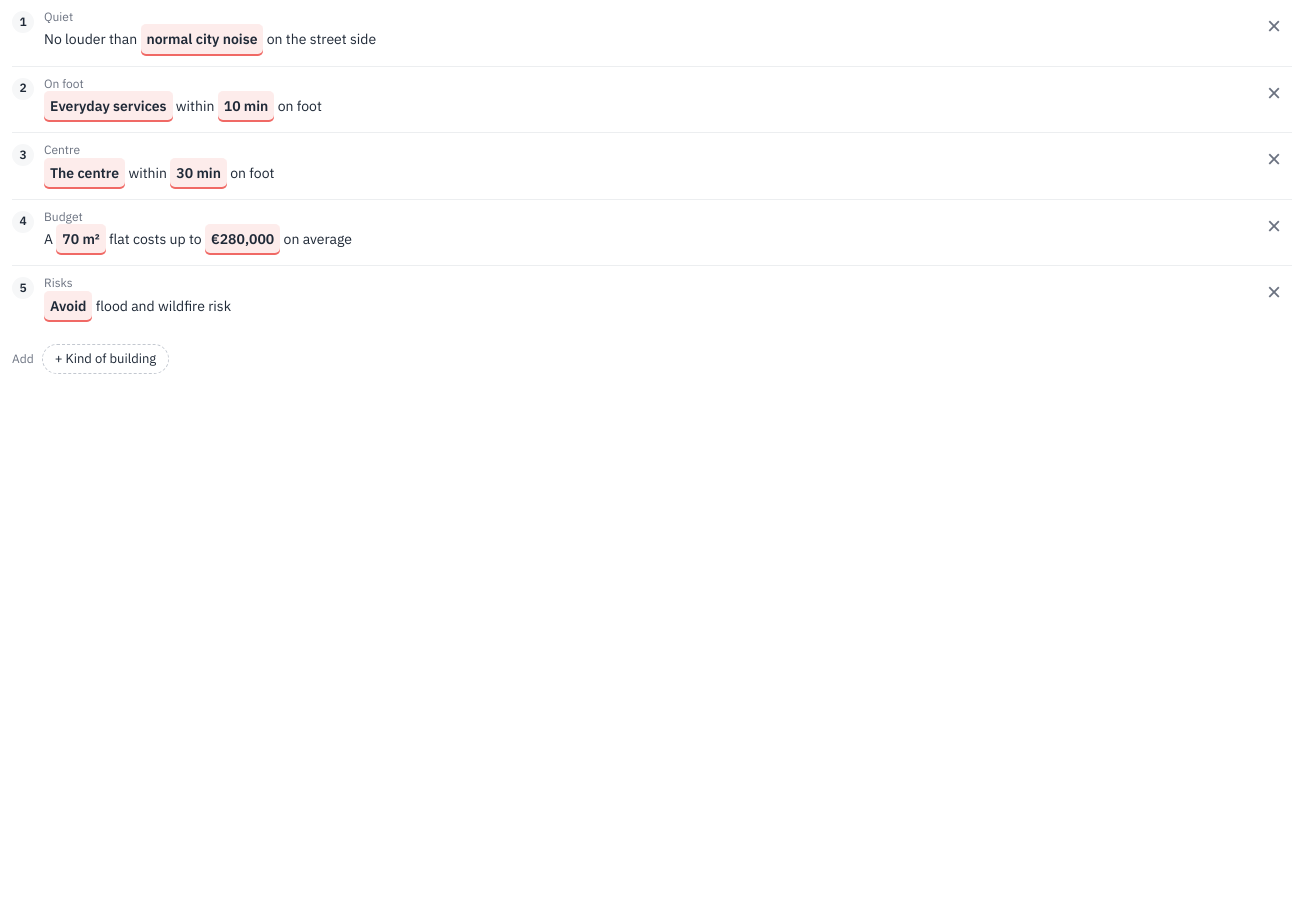
Test: ConditionsEditor › word picker in place (072) › Custom keeps the panel open while the value changes, with its own limits shown
This screenshot has width=1304, height=900.
Click the button "normal city noise" at (202, 40), box [140,24,264,56]
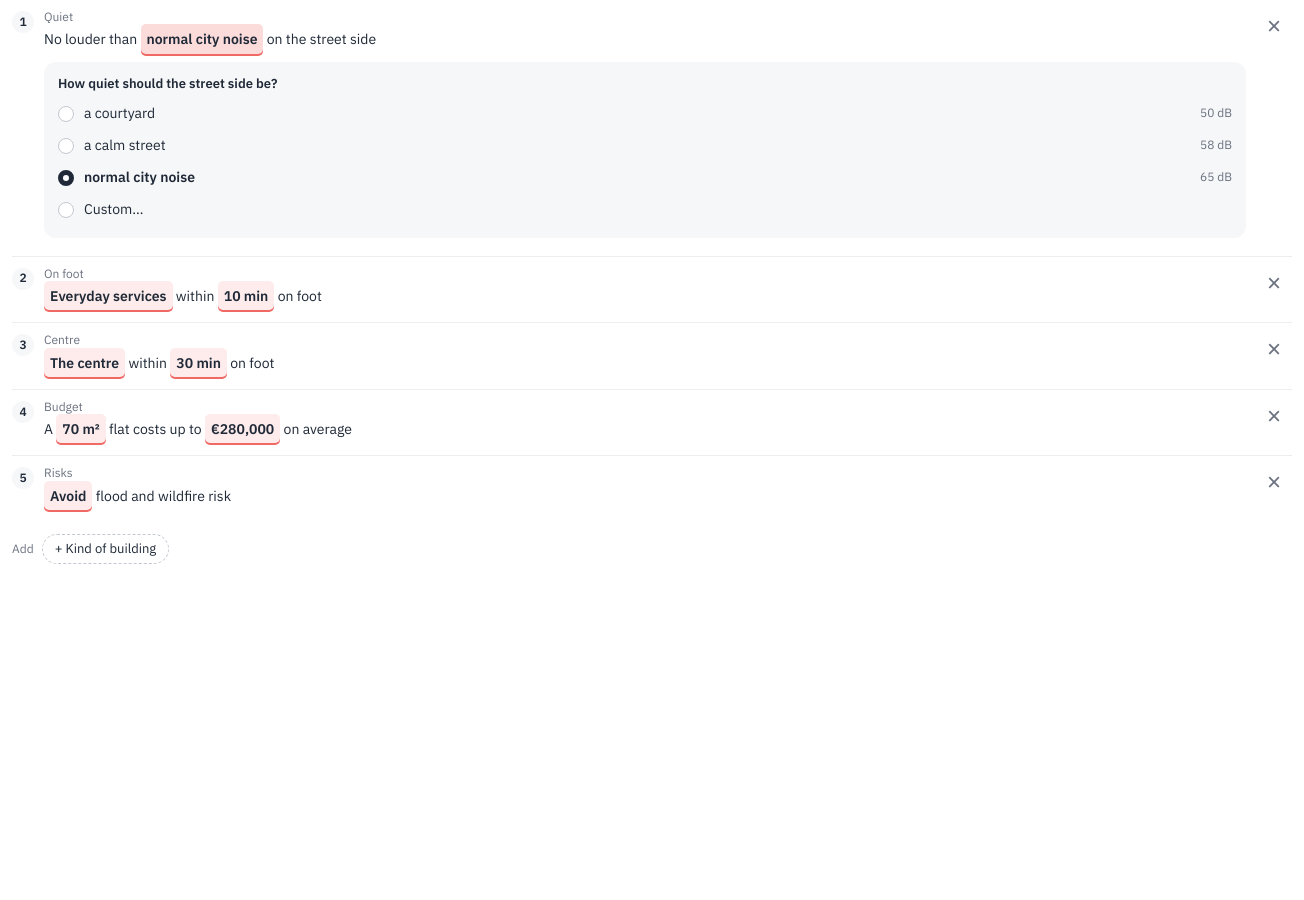
Click the radio button labelled "Custom…" at (114, 209), box [58,194,1232,226]
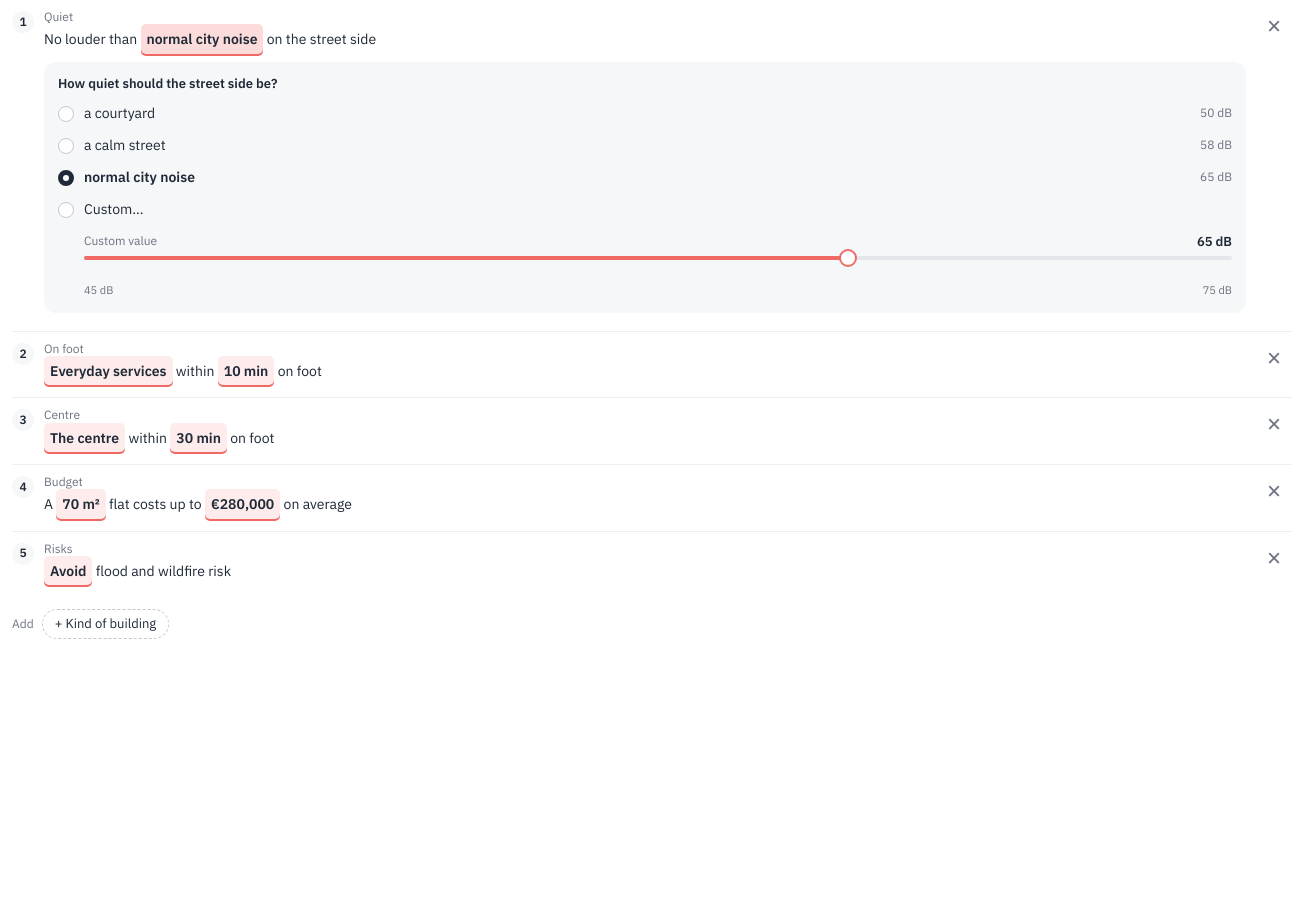
Press ArrowLeft in the element named "Custom value", box [84,249,857,267]
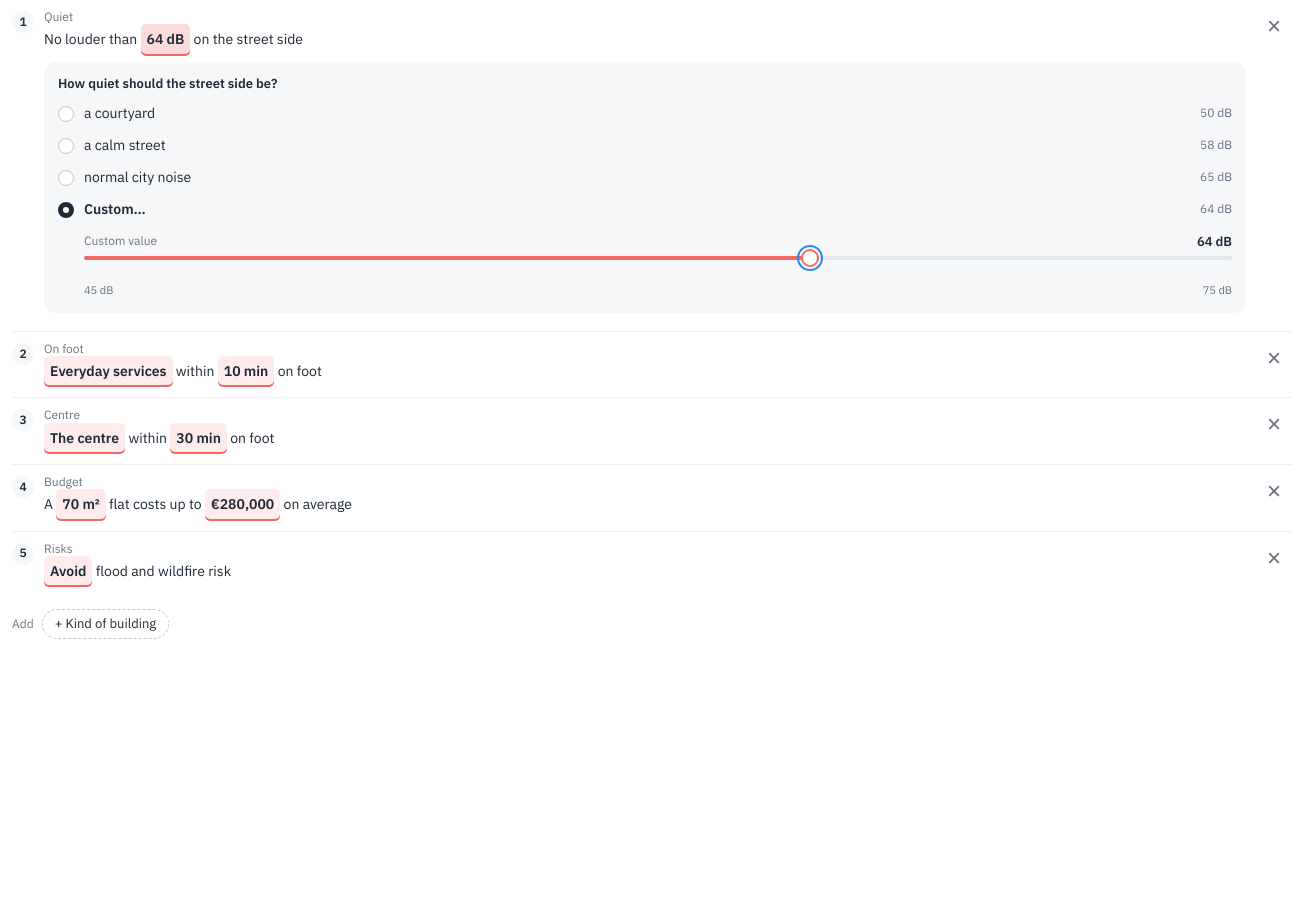
Result: the element with class "word-panel" is shown at [44,62,1246,313]
Result: the text "64 dB" in the row of "Custom value" is shown at [1197,233,1232,250]
